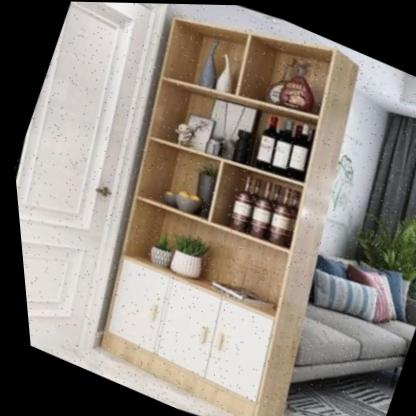Shelf: (22, 0, 416, 416)
